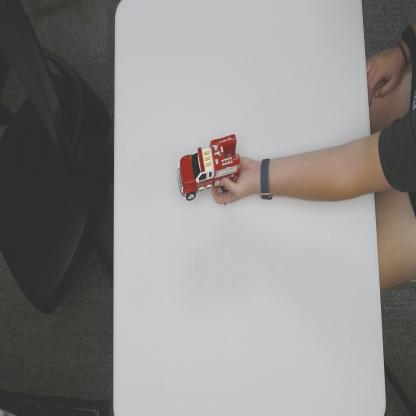Arm: (275, 107, 416, 207)
Firetruck: (176, 133, 240, 202)
